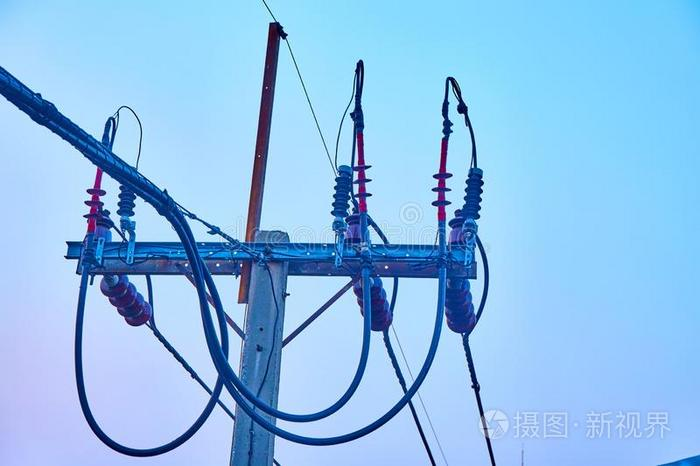insulator: (97, 270, 152, 329), (352, 274, 393, 329), (439, 279, 476, 332), (429, 168, 454, 209), (350, 160, 375, 200), (462, 177, 485, 219), (328, 173, 351, 215), (81, 186, 107, 221), (117, 184, 135, 215)
